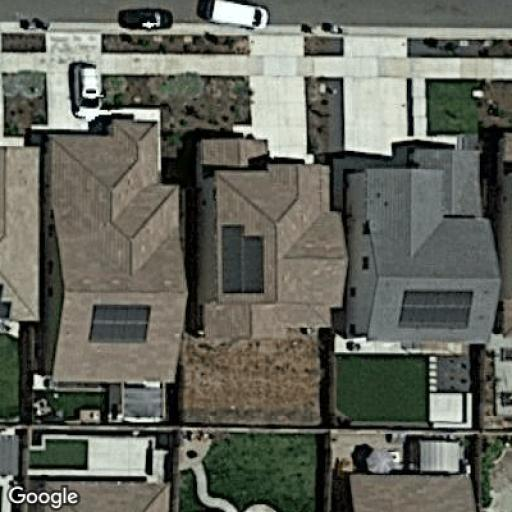solar-panel: (397, 288, 477, 332), (86, 298, 152, 348), (222, 221, 264, 299), (0, 282, 14, 318)
